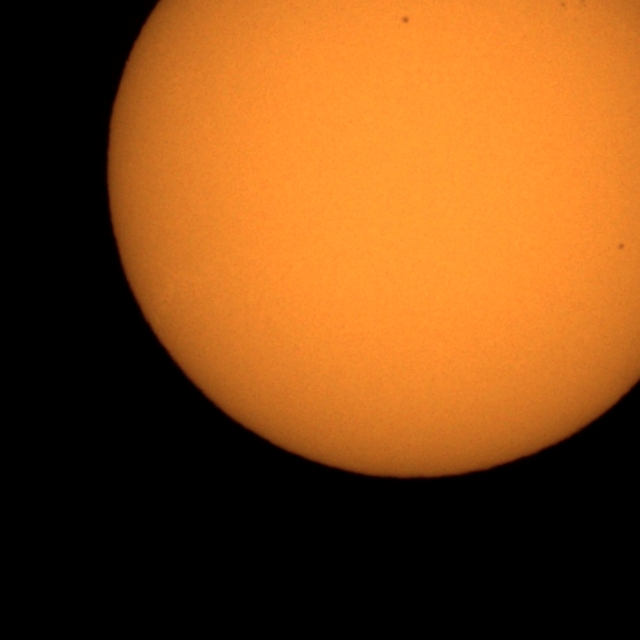sunspot: (559, 0, 588, 13), (558, 0, 568, 11), (400, 15, 410, 25), (617, 242, 626, 252)
